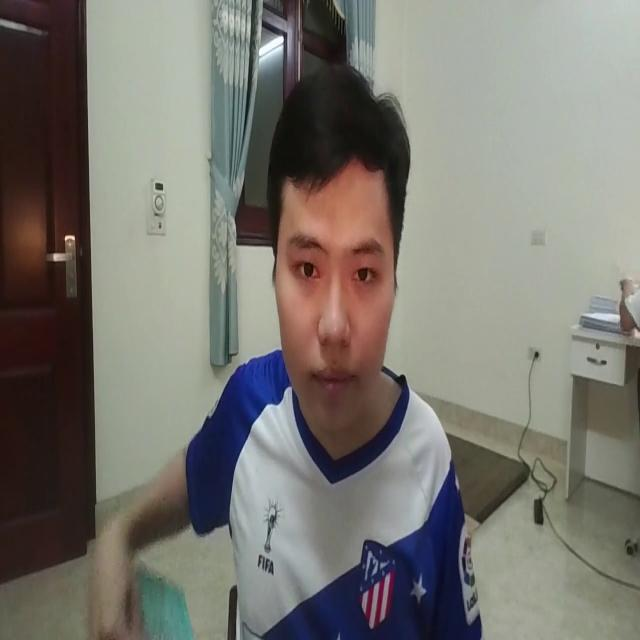book: (86, 539, 195, 640)
student: (169, 48, 489, 640)
